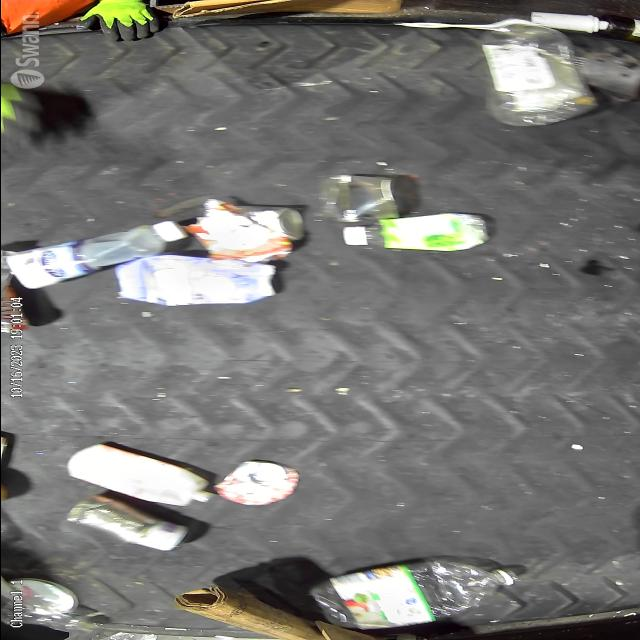can: (67, 496, 187, 552), (195, 204, 302, 248), (316, 170, 402, 223), (214, 460, 296, 506)
milk_jug: (9, 220, 183, 290), (114, 254, 278, 306)
plastic_bottle: (306, 558, 520, 630), (472, 24, 600, 124)
